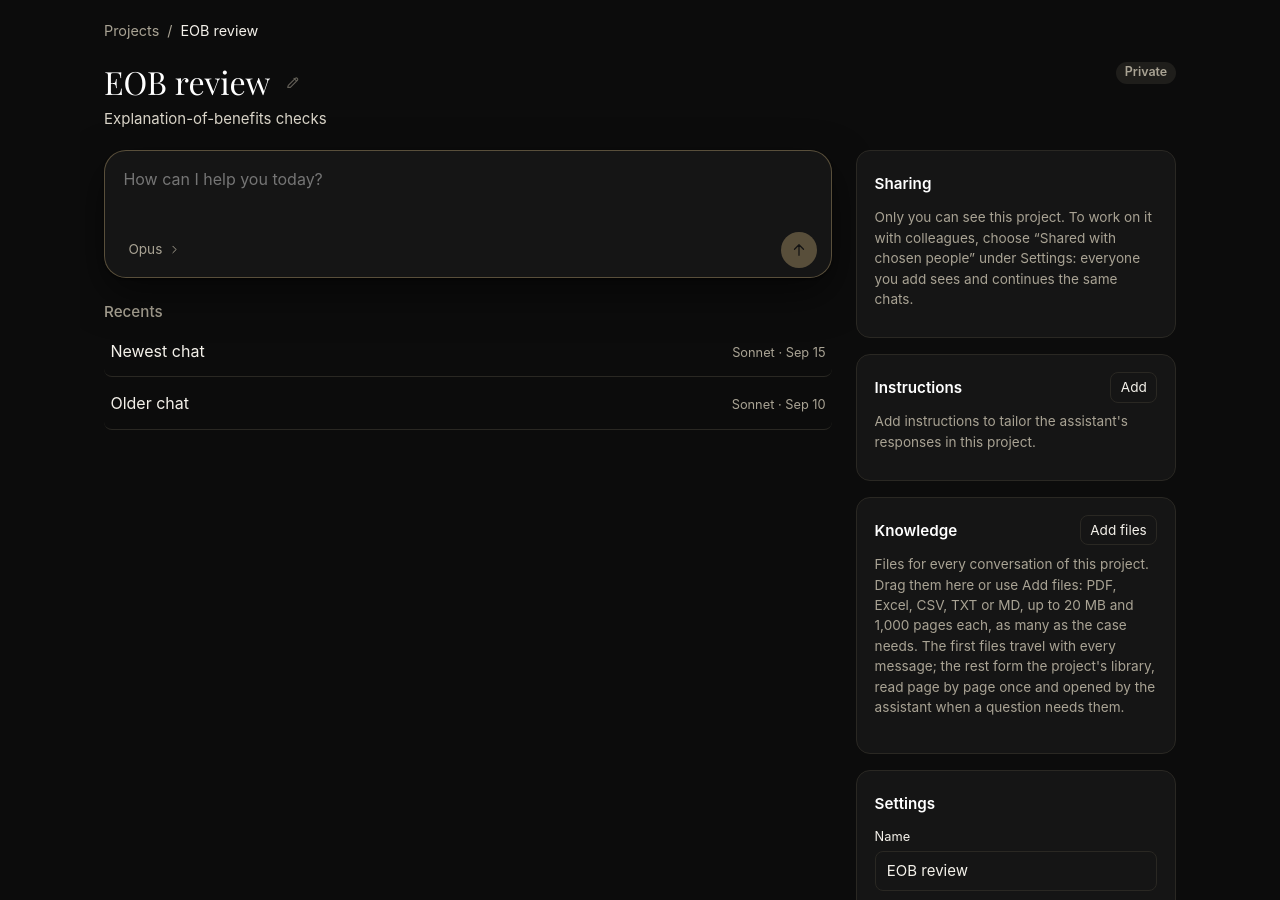
Test: ProjectPage › starts a conversation from the composer with the chosen model
Click the button with aria-label "Model: Opus" at (155, 250), box [119, 234, 190, 266]
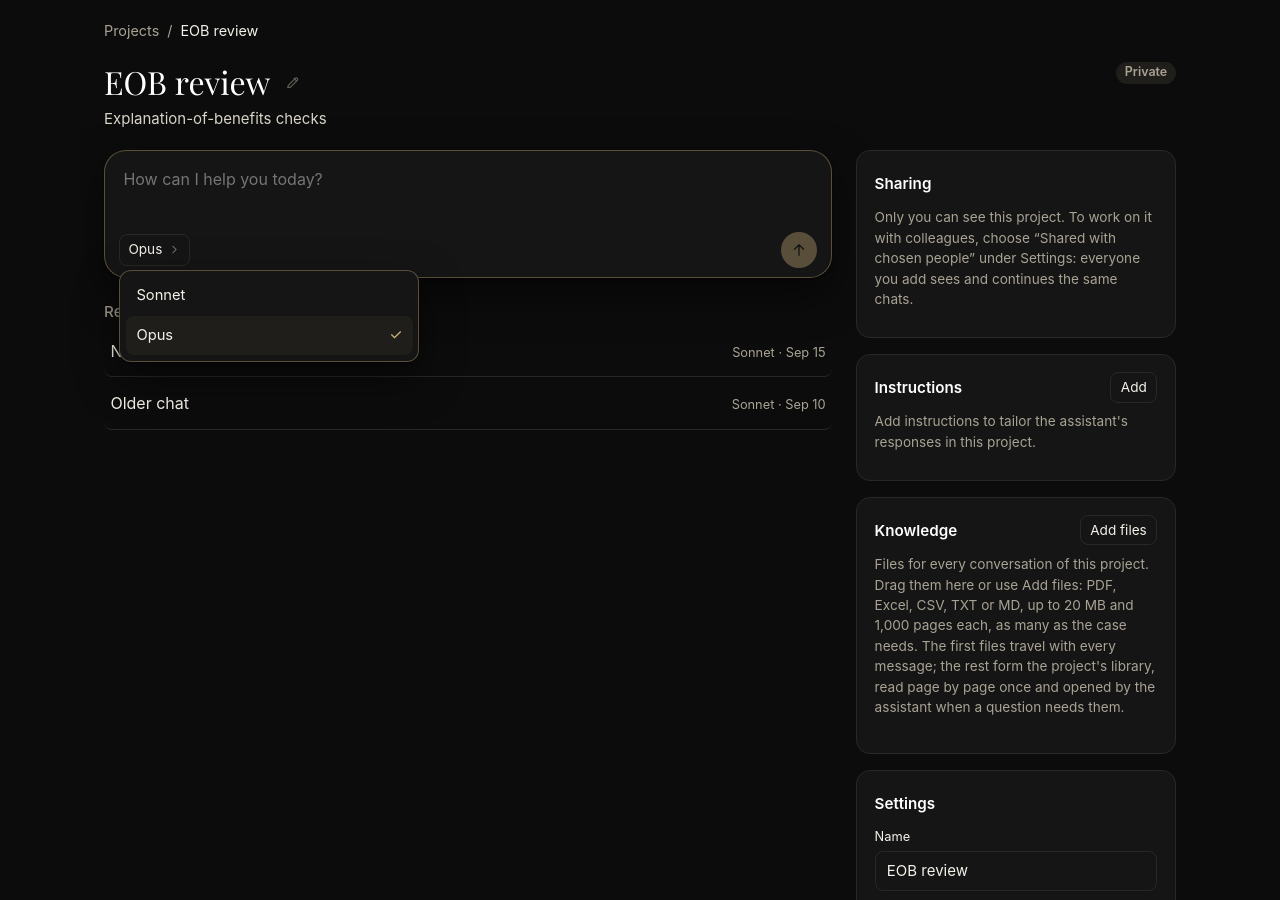
Click the option "Sonnet" at (161, 295), box [126, 276, 413, 316]
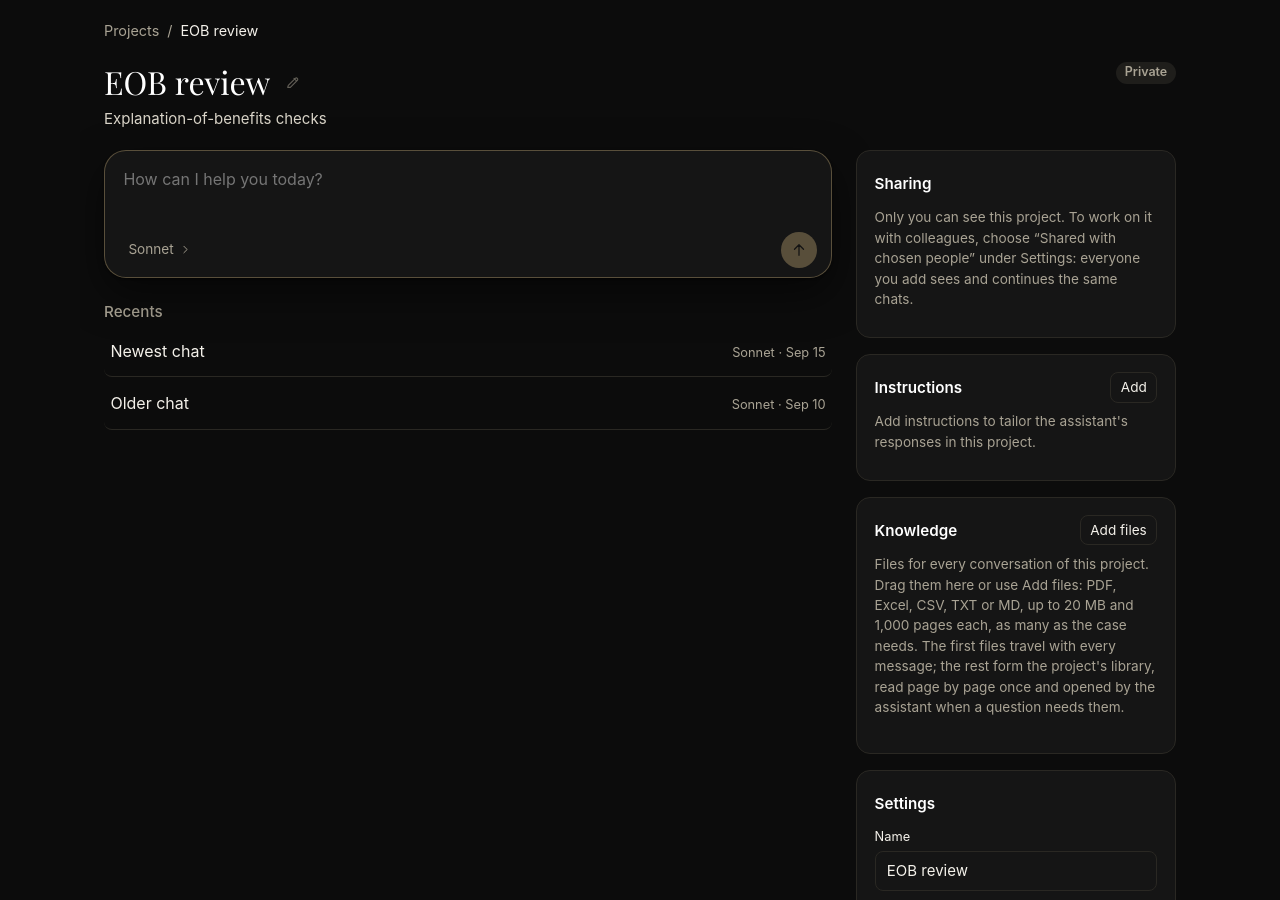
Type "  Summarize this EOB  " into the text box with placeholder "How can I help you today?" at (468, 192), box [119, 164, 817, 220]
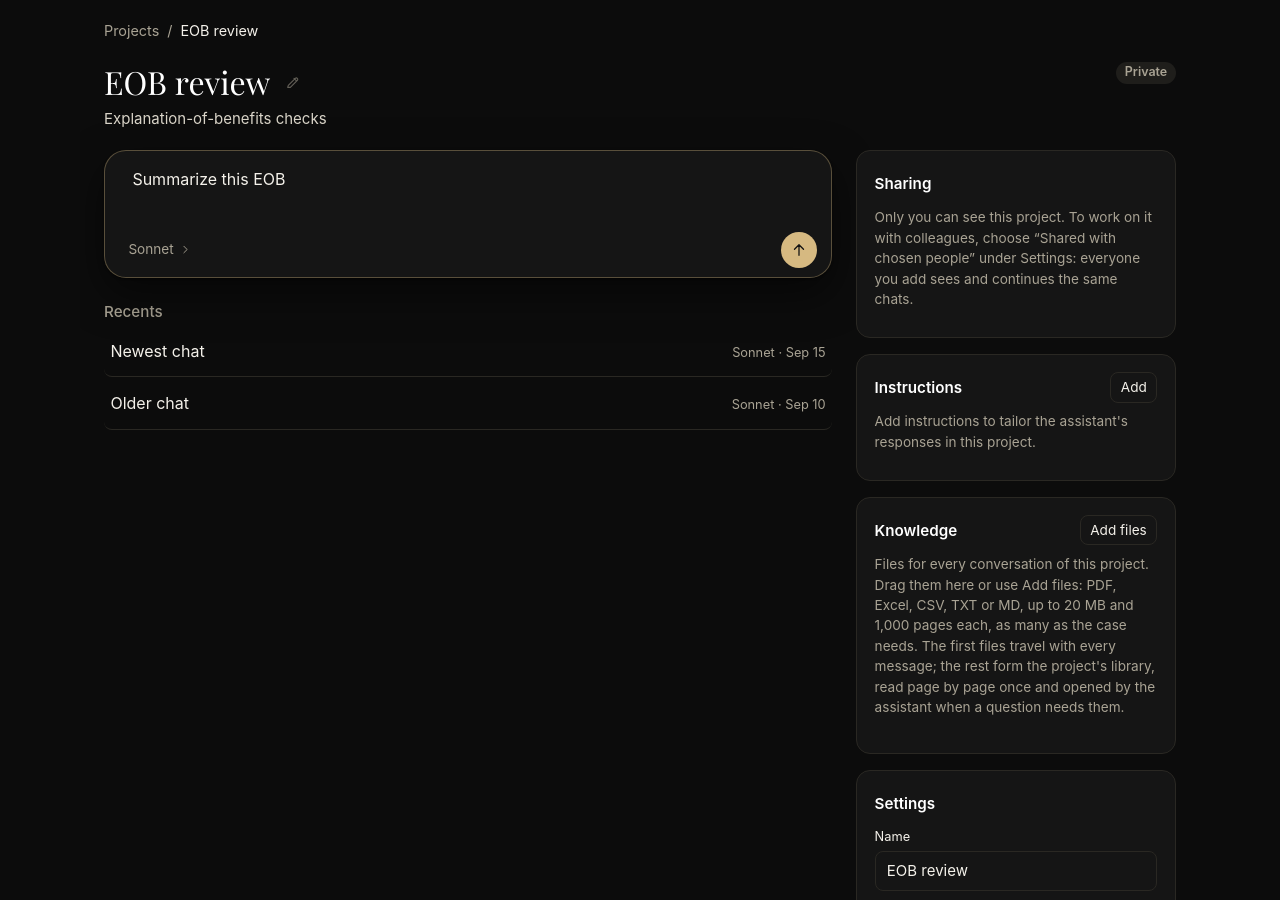
Click the button named "Send" at (799, 250), box [781, 232, 817, 268]
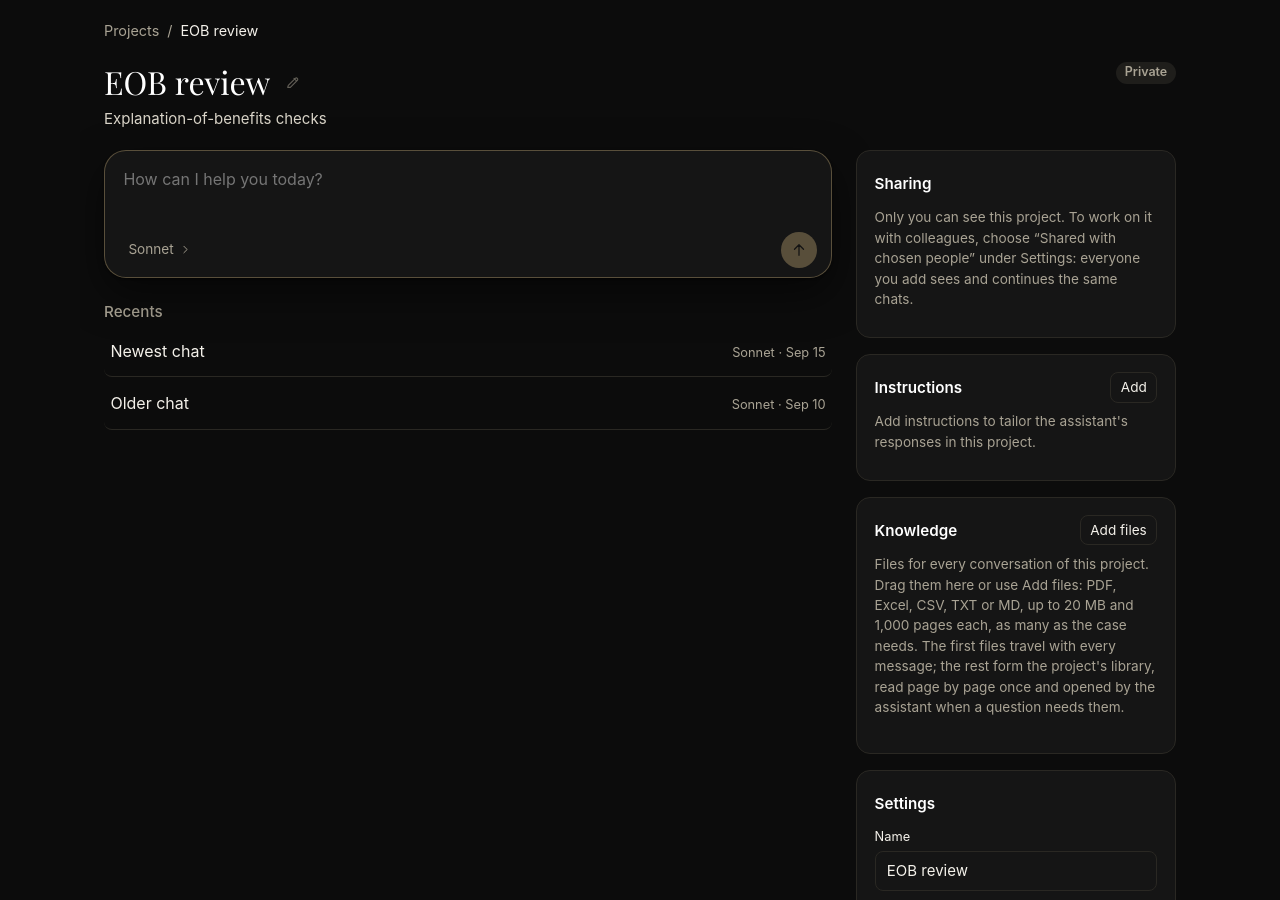
Now the text box with placeholder "How can I help you today?" is empty, box [119, 164, 817, 220]
